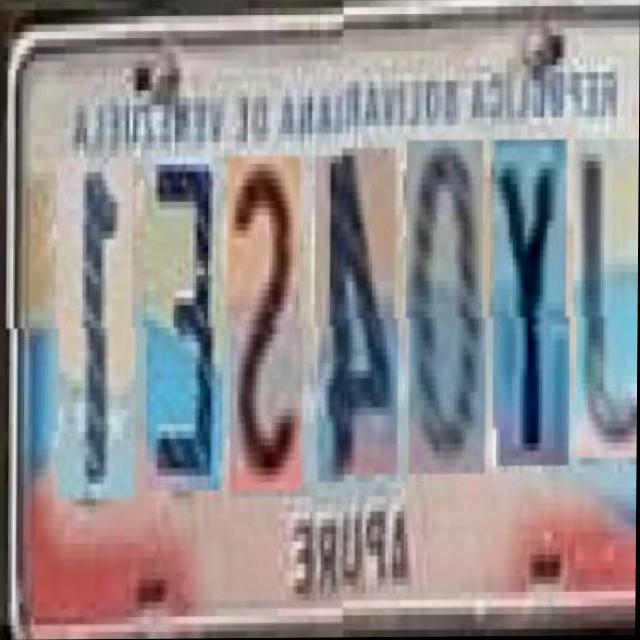1: (56, 158, 134, 500)
4: (313, 155, 397, 483)
e: (143, 157, 221, 491)
j: (573, 145, 639, 466)
o: (405, 149, 483, 483)
s: (227, 156, 302, 490)
y: (489, 147, 567, 475)
